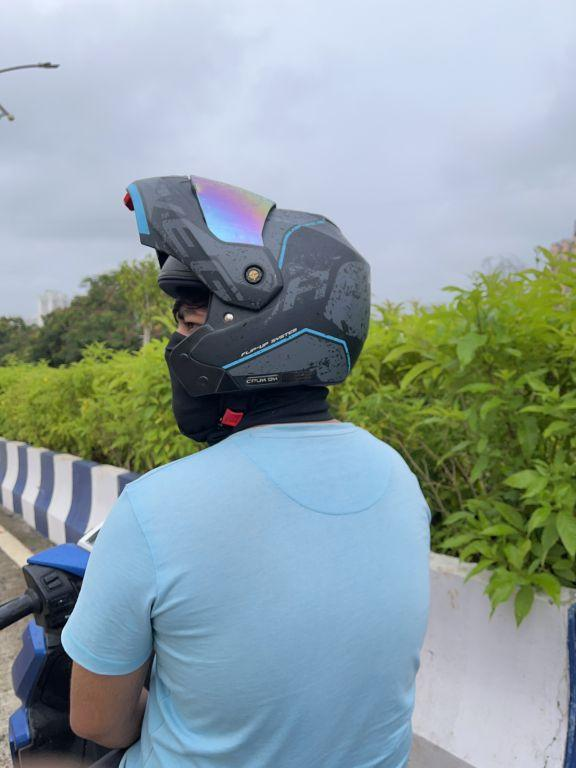helmet: (102, 164, 380, 461)
